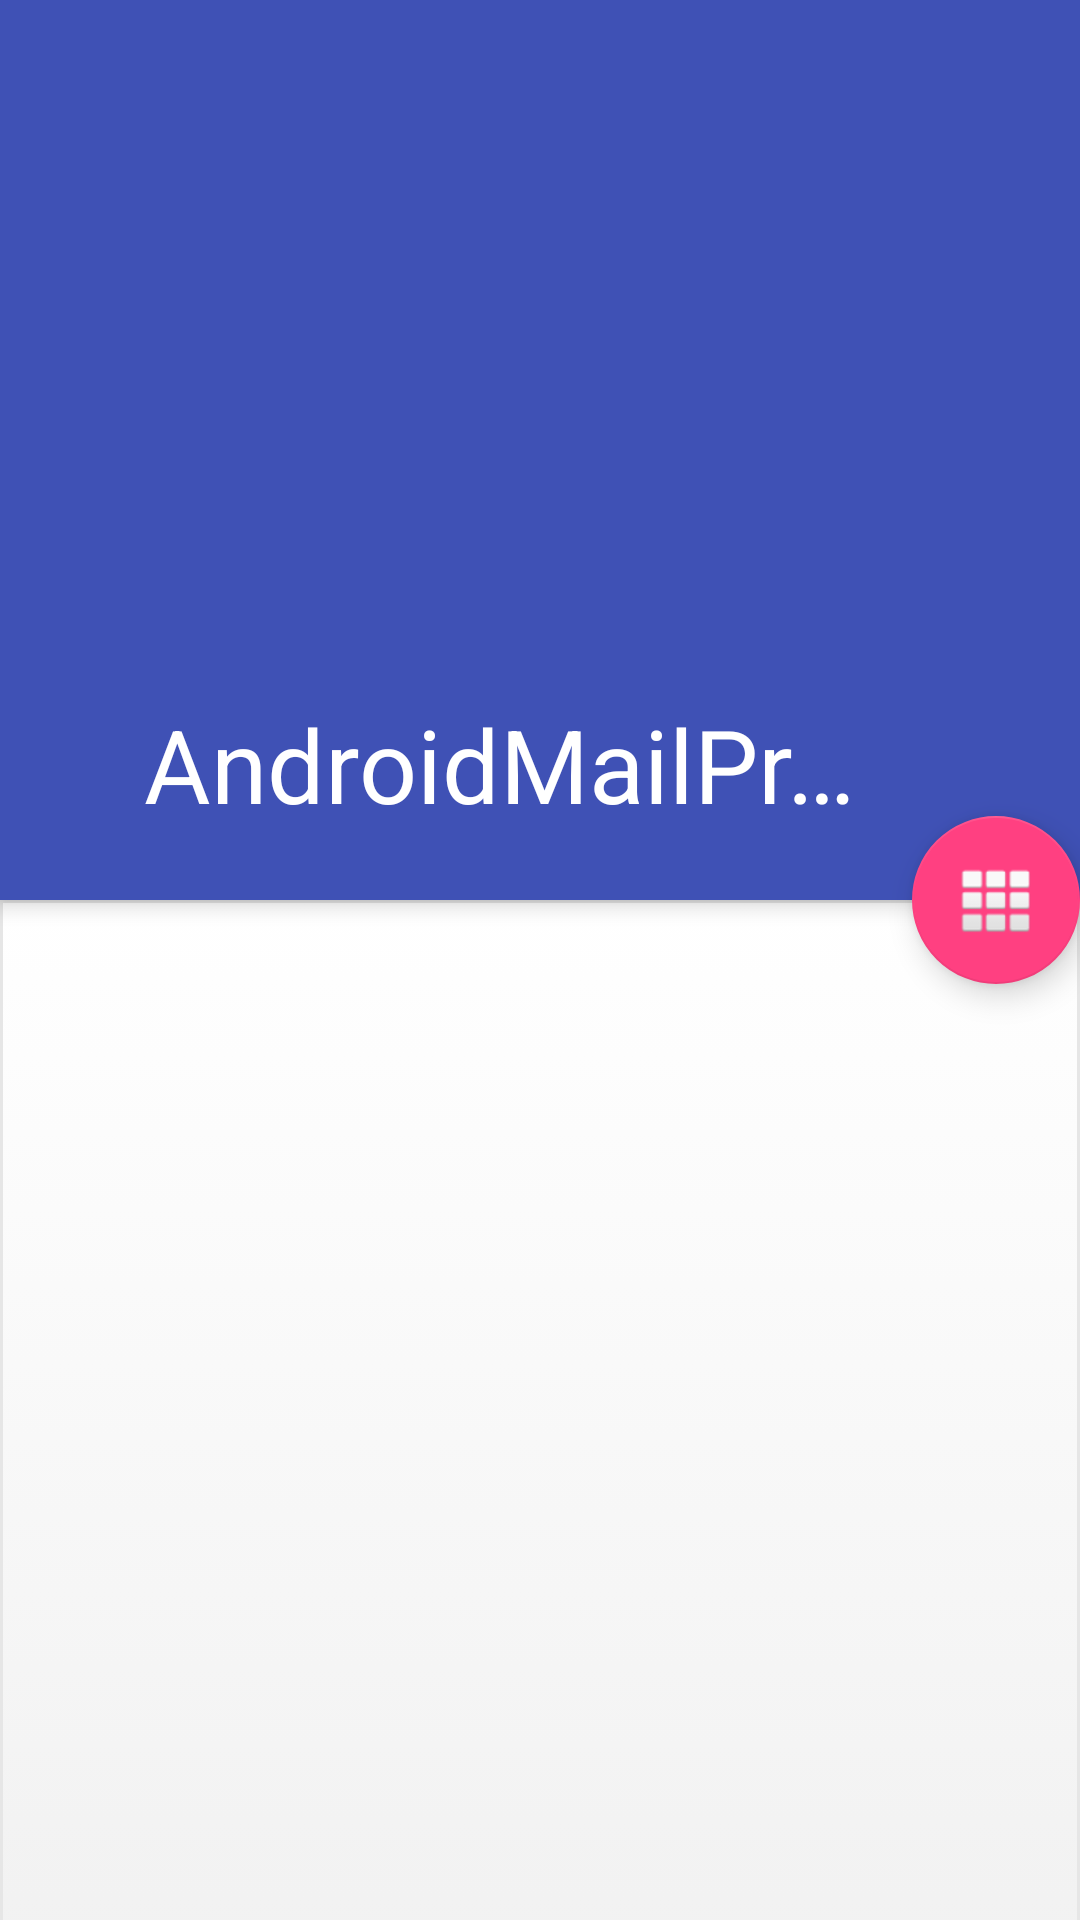

Icons on this 1080 x 1920 Android screen, each with the point to tap as (x,y):
dialer: (996,900)
